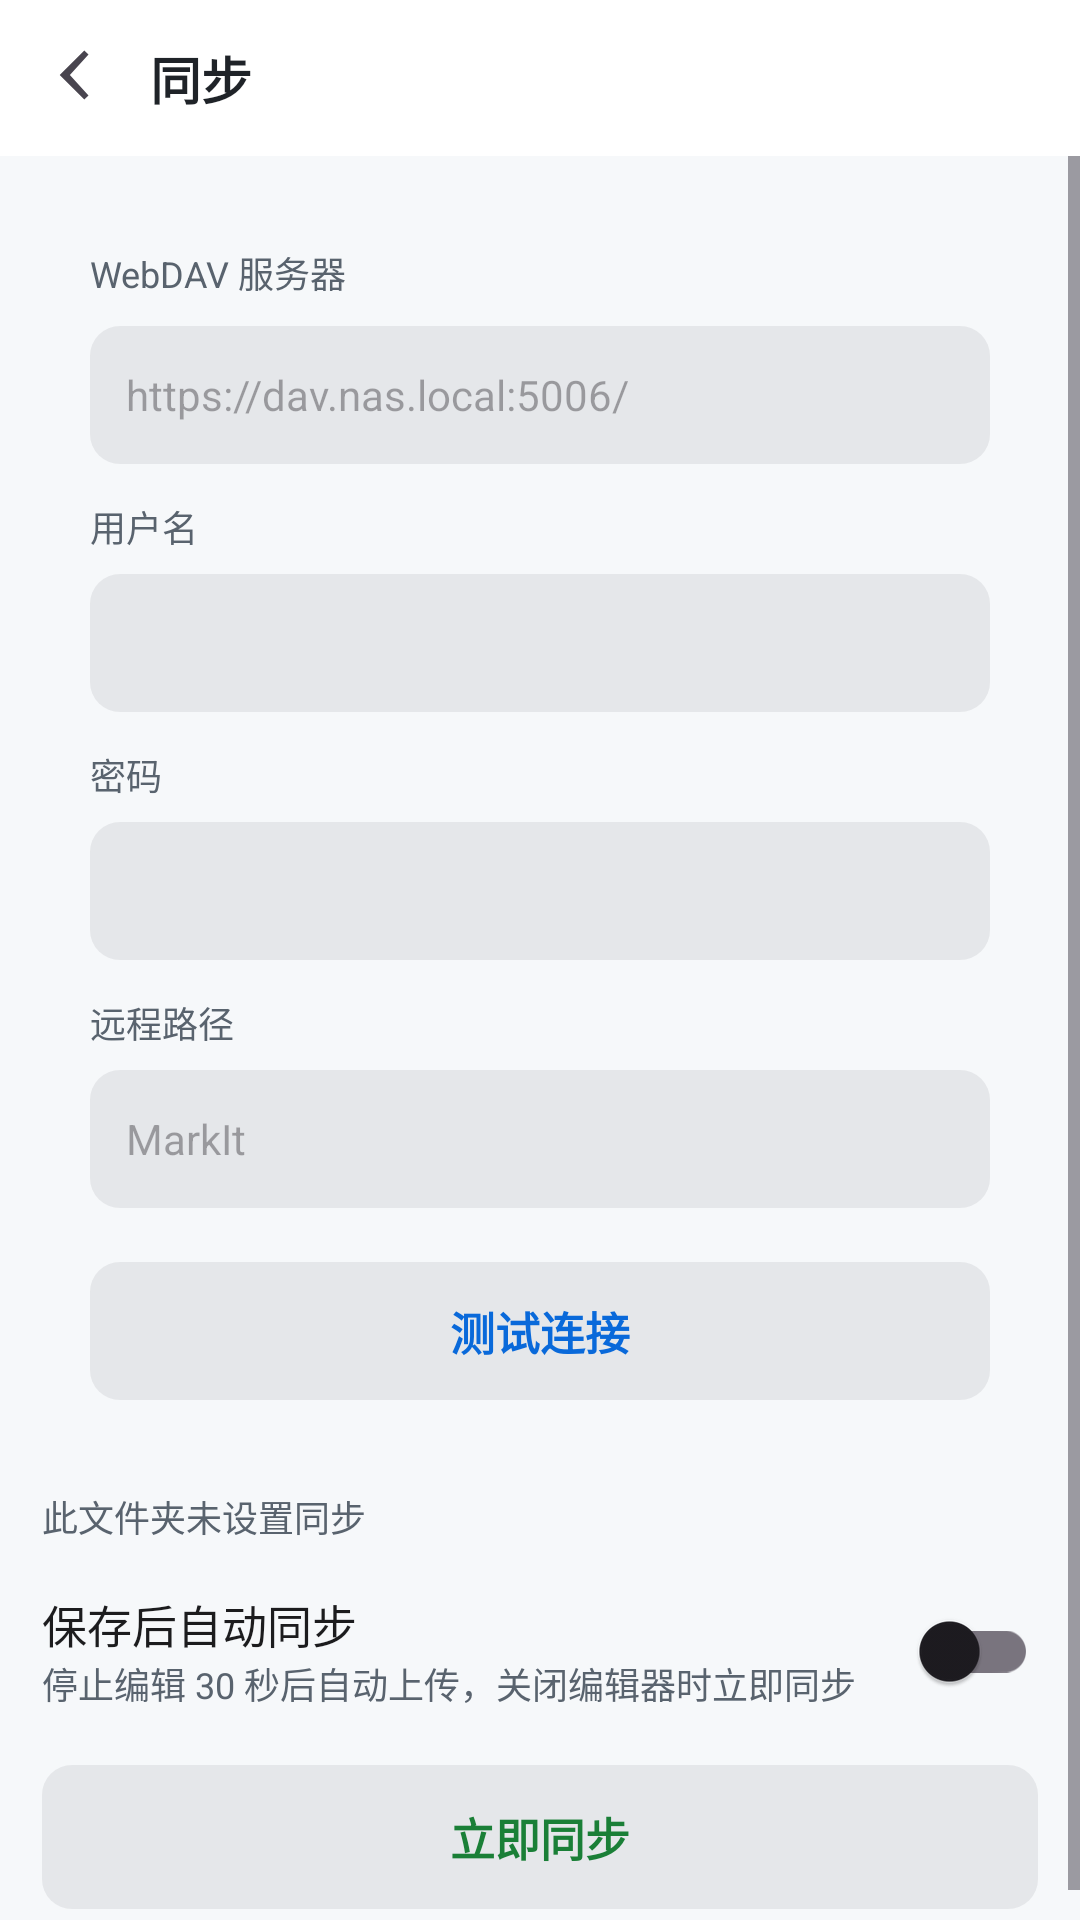

Screen size 1080w x 1920h. Icon name, then its center in pixels as [x,y]:
返回: [74,75]
